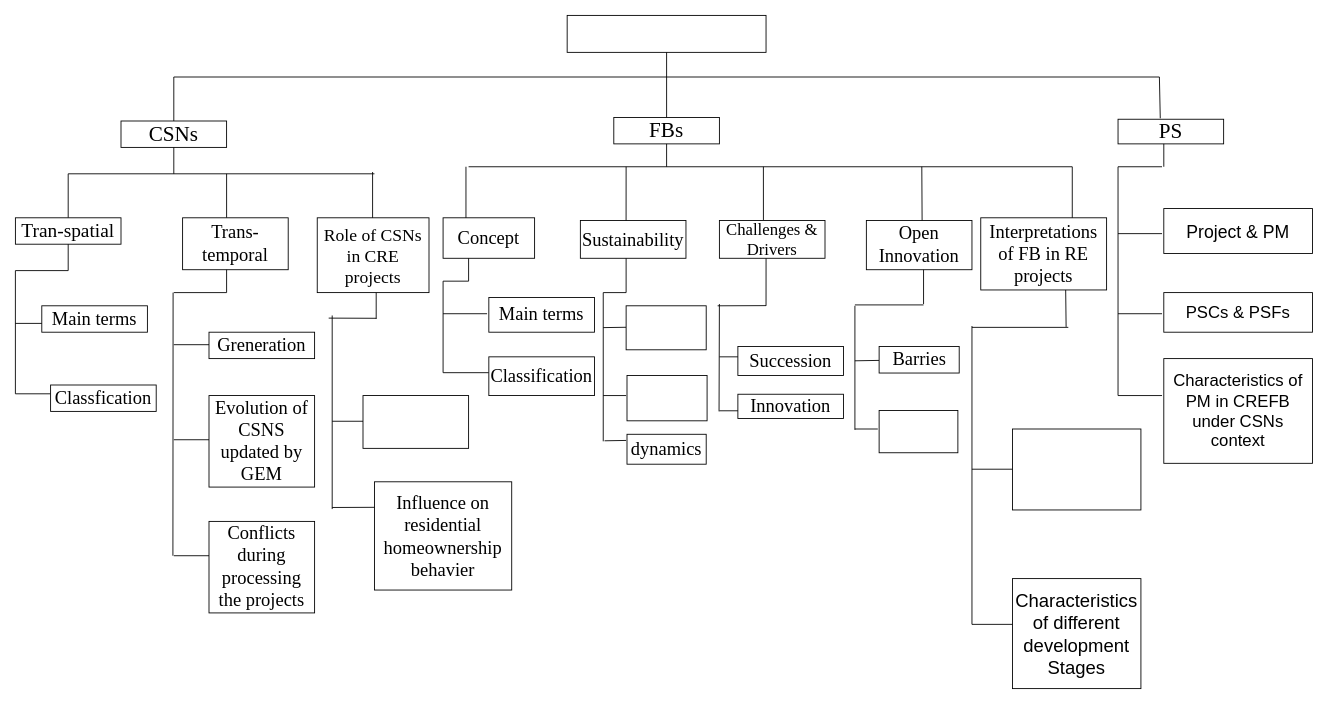
This 1328x704 diagram has some shape labels left out. The shapes that lost their labels are listed below. From the top down, each one's centre as x and y in pixels, then its label:
[666,33]: Context-CF
[665,327]: Average Life span
[666,398]: influence factors
[415,421]: Influence mechanism
[918,431]: Advanta ges
[1076,469]: CREFB development stages
